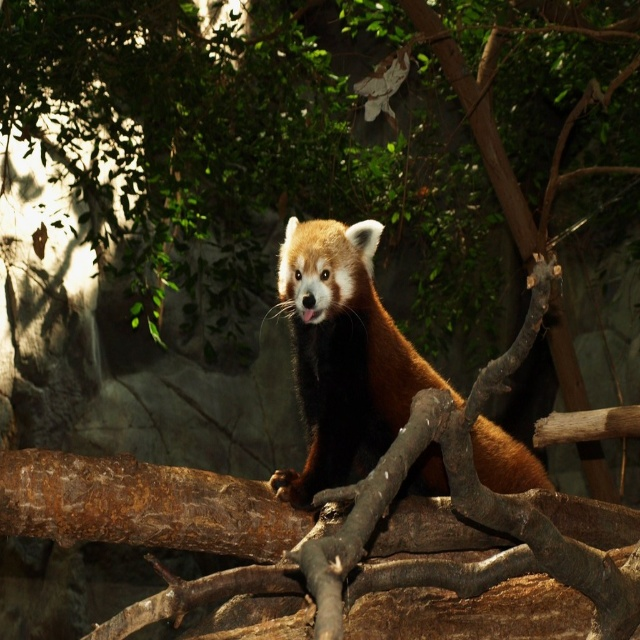Red panda: (270, 216, 556, 510)
